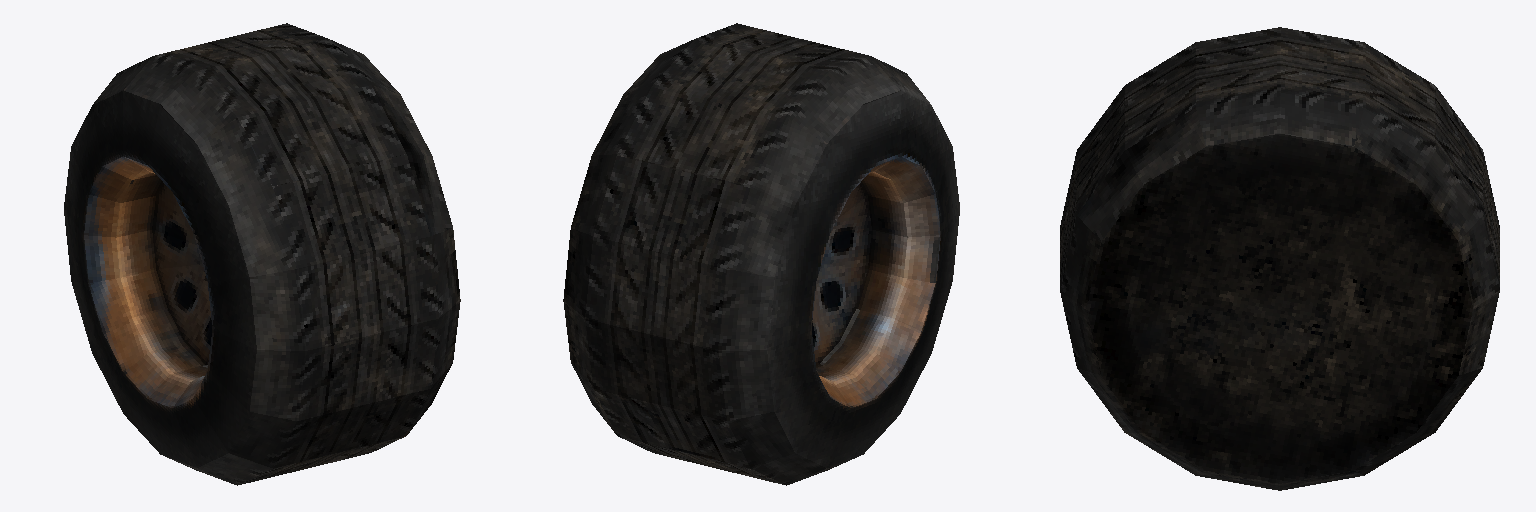
3 views of the same model, side by side, from view 1: azimuth 30°, elevation 25°; view 2: azimuth 150°, elevation 25°; view 3: azimuth 270°, elevation 25° (orthographic).
Visible parts, largest first — view 1: Camaro_Warrior_RearLeft; view 2: Camaro_Warrior_RearLeft; view 3: Camaro_Warrior_RearLeft.
Part boxes in pixels (left/top/right/bottom): Camaro_Warrior_RearLeft: left=64, top=23, right=460, bottom=485; Camaro_Warrior_RearLeft: left=563, top=23, right=959, bottom=485; Camaro_Warrior_RearLeft: left=1060, top=27, right=1499, bottom=490.
Size of the model in its own units: 3.48 by 6.14 by 6.14.
1 materials, 1 textured.